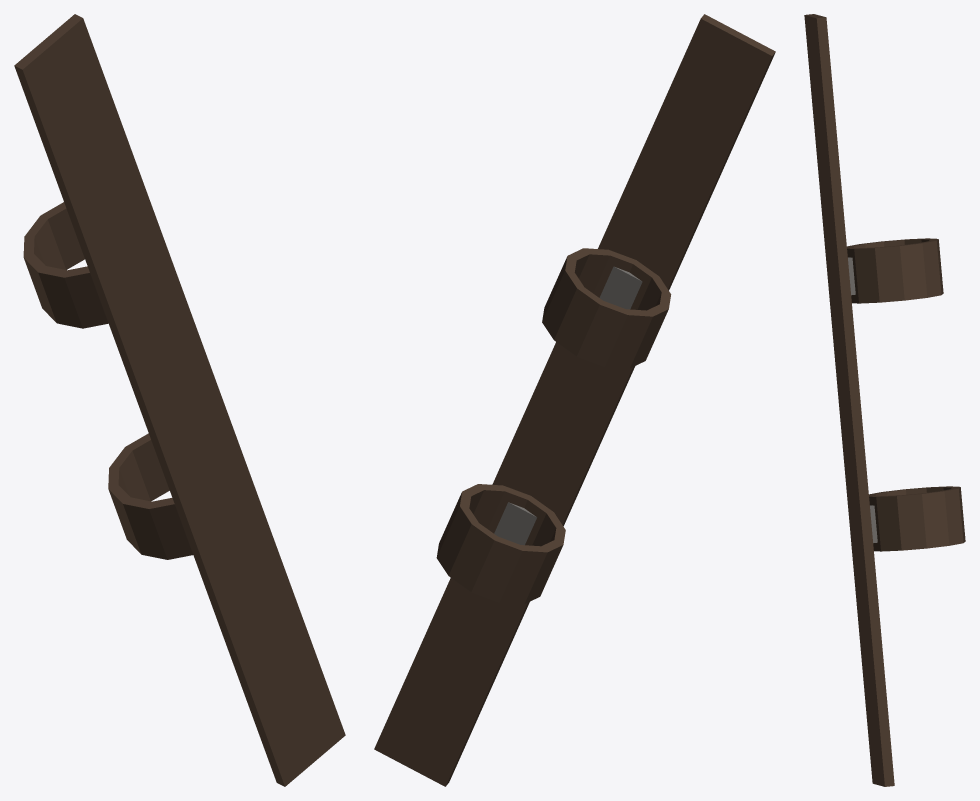
File: holster_back.glb
The picture shows the model from 3 angles, left to right: view 1: azimuth 30°, elevation 25°; view 2: azimuth 150°, elevation 25°; view 3: azimuth 270°, elevation 25°; orthographic projection. The views are drawn at different scales.
Visible parts, largest first — view 1: holster_back; view 2: holster_back; view 3: holster_back.
Boxes of the visible parts, <box> form: holster_back: <box>14,14,345,786</box>; holster_back: <box>374,14,775,786</box>; holster_back: <box>804,14,965,786</box>.
Size of the model in its own units: 0.2754 by 0.5962 by 0.1293.
